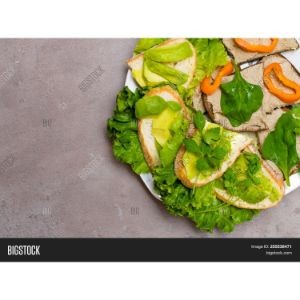tuna_brain food: (193, 81, 278, 181)
